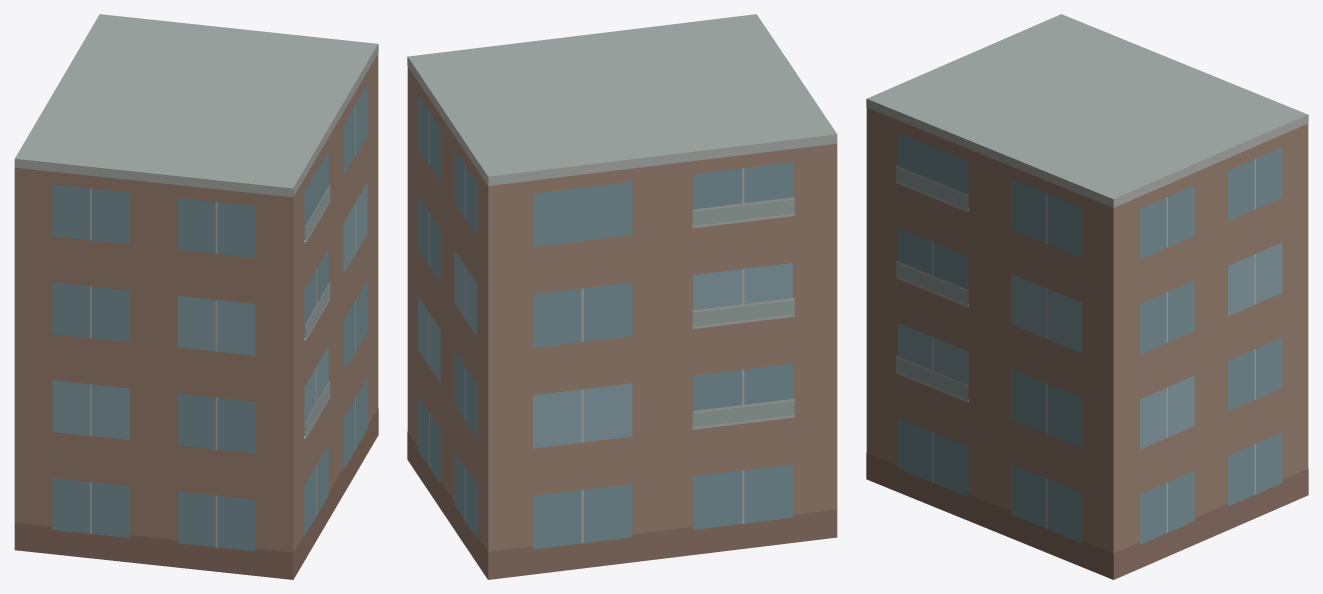
File: survey-upis-33017135.glb
The picture shows the model from 3 angles, left to right: view 1: azimuth 30°, elevation 25°; view 2: azimuth 150°, elevation 25°; view 3: azimuth 270°, elevation 25°; orthographic projection. The views are drawn at different scales.
Visible parts, largest first — view 1: survey-upis-33017135.tmp; view 2: survey-upis-33017135.tmp; view 3: survey-upis-33017135.tmp.
Part boxes in pixels (box(x1,y1,x2,y2)): survey-upis-33017135.tmp: box(14, 14, 378, 579); survey-upis-33017135.tmp: box(407, 14, 837, 579); survey-upis-33017135.tmp: box(866, 14, 1308, 579).
Size of the model in its own units: 11.18 by 10.7 by 11.27.
